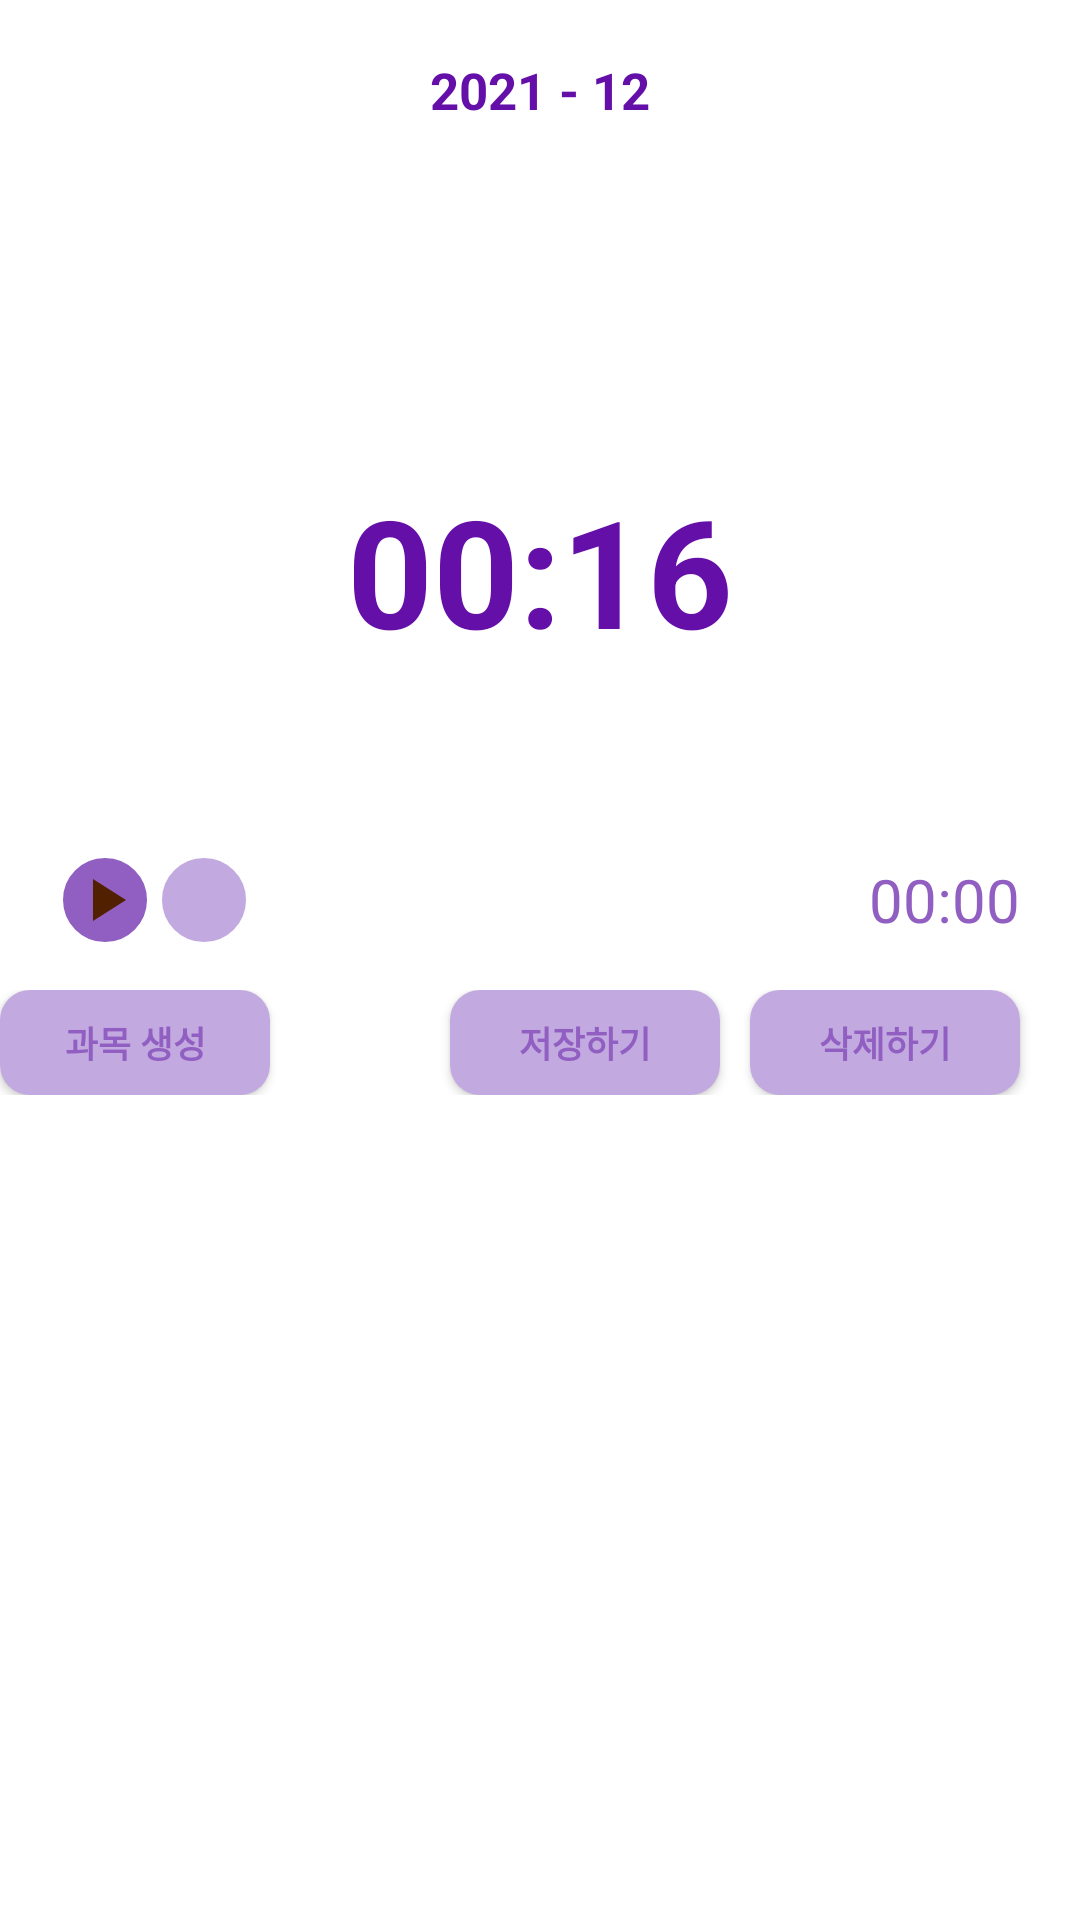

Screen size 1080 × 1920. Icon name, then its center in pixels as (x=x, y=y):
play arrow: (x=105, y=900)
